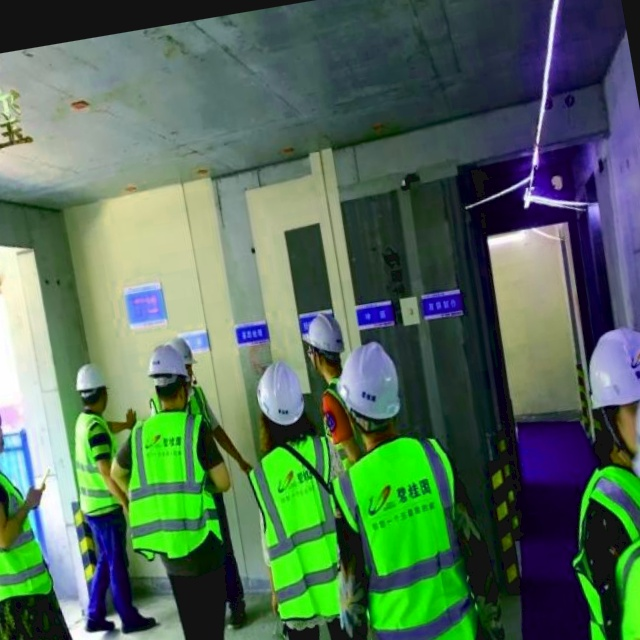Con_Chaleco: (325, 433, 484, 640), (244, 433, 371, 638), (125, 410, 226, 564), (0, 461, 57, 610), (251, 356, 311, 436), (72, 361, 114, 414)
